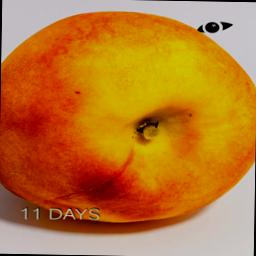Peach Unripe: (0, 7, 256, 222)
